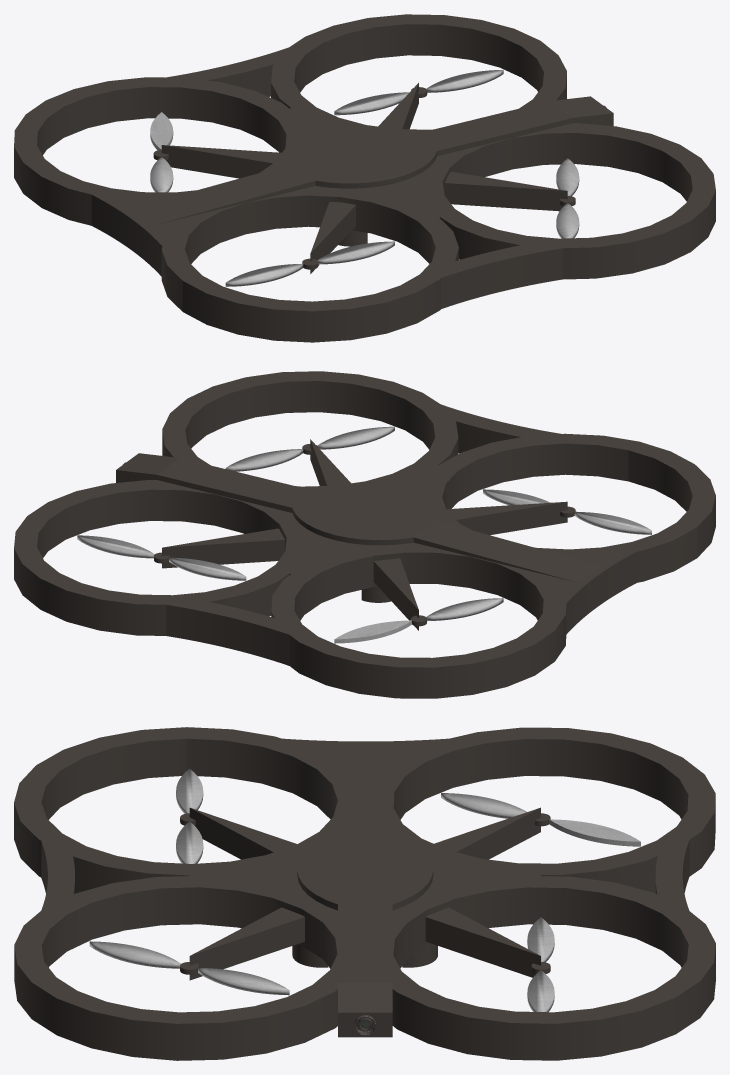
The model's file is ardrone_quadrotor.dae.
3 views of the same model, one above another, from view 1: azimuth 30°, elevation 25°; view 2: azimuth 150°, elevation 25°; view 3: azimuth 270°, elevation 25° (orthographic). The views are drawn at different scales.
Parts seen in each view (by area): view 1: group_0 (×14); view 2: group_0 (×14); view 3: group_0 (×14).
Boxes of the visible parts, x1,y1,x2,y2 form: group_0 (×14): (14, 14, 715, 342); group_0 (×14): (14, 371, 715, 698); group_0 (×14): (14, 727, 715, 1060).
Bounding box in the file's own units: 20.34 × 20.33 × 2.17.
Materials: 5 (1 with a texture image).
